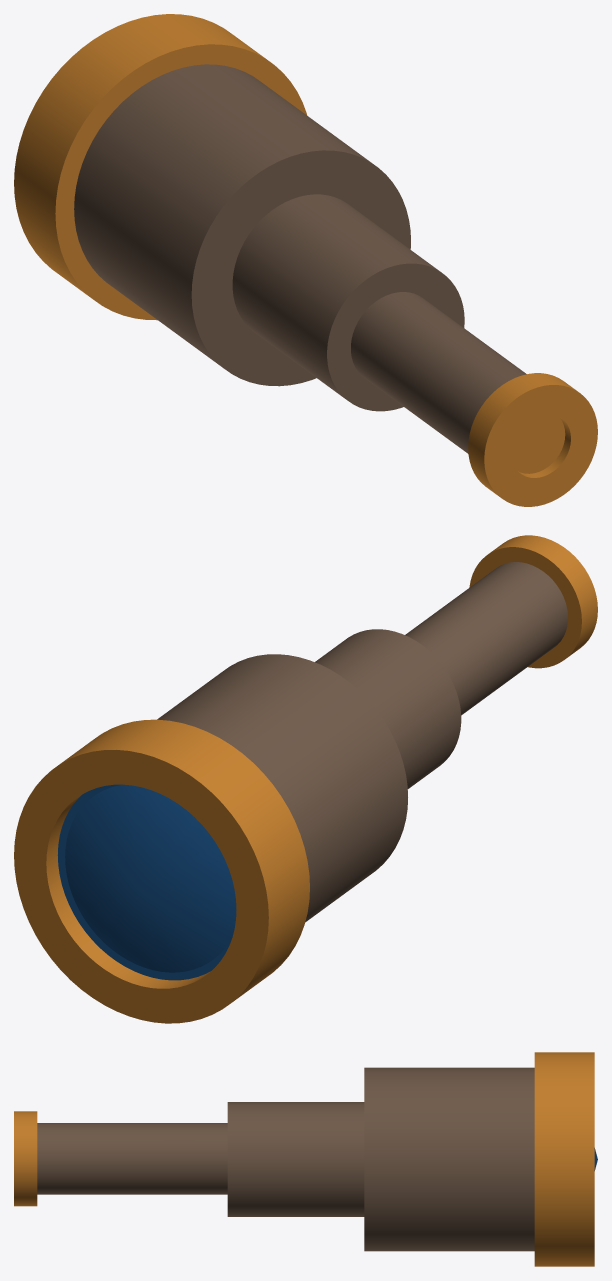
3 renders of one model, top to bottom at view 1: azimuth 30°, elevation 25°; view 2: azimuth 150°, elevation 25°; view 3: azimuth 270°, elevation 25°, orthographic. The views are drawn at different scales.
Parts seen in each view (by area): view 1: barrel, middle_tube, gold_rim, eyepiece_tube, ocular_rim; view 2: gold_rim, barrel, glass_base, eyepiece_tube, middle_tube, ocular_rim; view 3: barrel, middle_tube, eyepiece_tube, gold_rim, ocular_rim.
Boxes of the visible parts, bbox=[...] form: barrel: bbox=[74, 64, 410, 386]; middle_tube: bbox=[232, 194, 464, 411]; gold_rim: bbox=[14, 14, 307, 320]; eyepiece_tube: bbox=[351, 292, 526, 453]; ocular_rim: bbox=[468, 373, 597, 506]; gold_rim: bbox=[14, 719, 309, 1023]; barrel: bbox=[157, 654, 407, 922]; glass_base: bbox=[57, 784, 236, 980]; eyepiece_tube: bbox=[405, 562, 567, 715]; middle_tube: bbox=[315, 629, 461, 788]; ocular_rim: bbox=[469, 535, 597, 668]; barrel: bbox=[364, 1067, 534, 1251]; middle_tube: bbox=[227, 1102, 364, 1216]; eyepiece_tube: bbox=[37, 1123, 227, 1194]; gold_rim: bbox=[534, 1052, 594, 1266]; ocular_rim: bbox=[14, 1111, 37, 1206].
Size of the model in its own units: 0.1287 by 0.1287 by 0.35.
